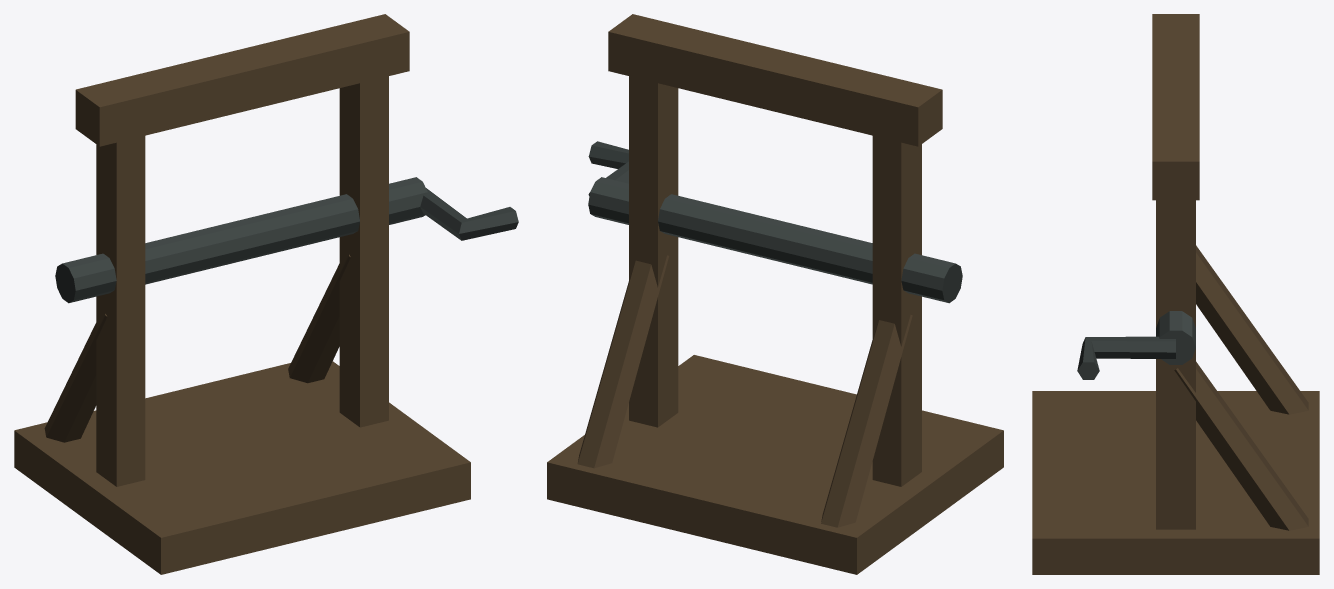
The model's file is strange_winch.glb.
The picture shows the model from 3 angles, left to right: view 1: azimuth 30°, elevation 25°; view 2: azimuth 150°, elevation 25°; view 3: azimuth 270°, elevation 25°; orthographic projection. The views are drawn at different scales.
Visible parts, largest first — view 1: strange_winch; view 2: strange_winch; view 3: strange_winch.
Part boxes in pixels (x1,y1,x2,y2): strange_winch: (14,14,518,574); strange_winch: (547,14,1003,574); strange_winch: (1032,14,1319,574).
Size of the model in its own units: 1.82 by 1.83 by 1.15.
